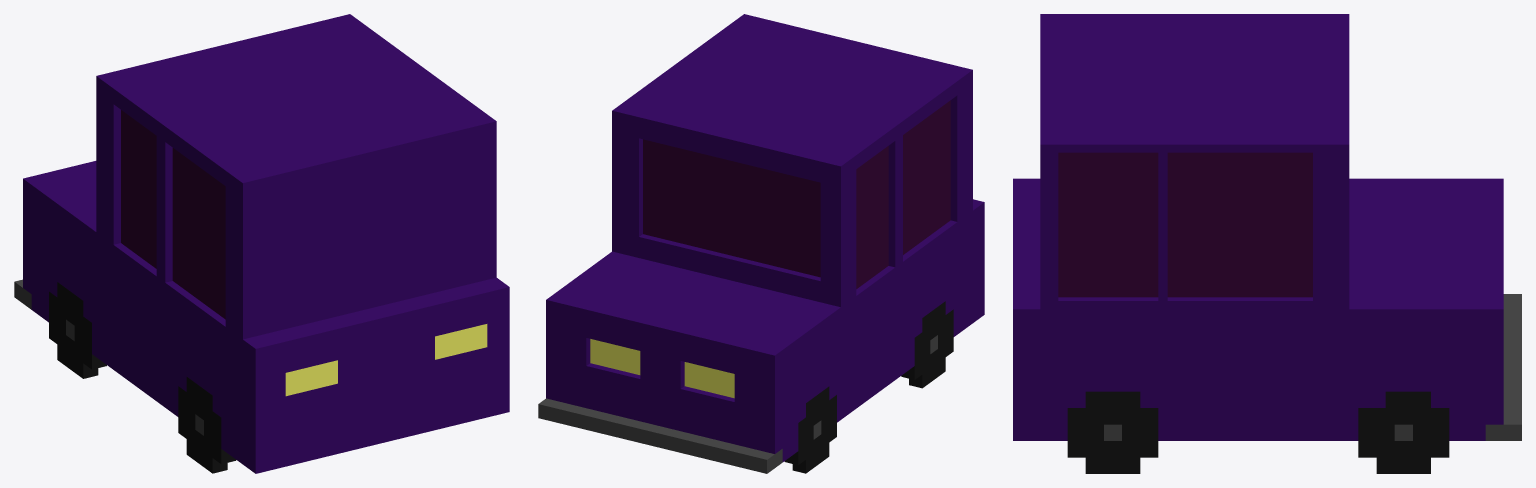
File: Auto2.obj
3 views of the same model, side by side, from view 1: azimuth 30°, elevation 25°; view 2: azimuth 150°, elevation 25°; view 3: azimuth 270°, elevation 25° (orthographic). The views are drawn at different scales.
Size of the model in its own units: 3.4 by 4 by 5.6.
Materials: 1 (1 with a texture image).
